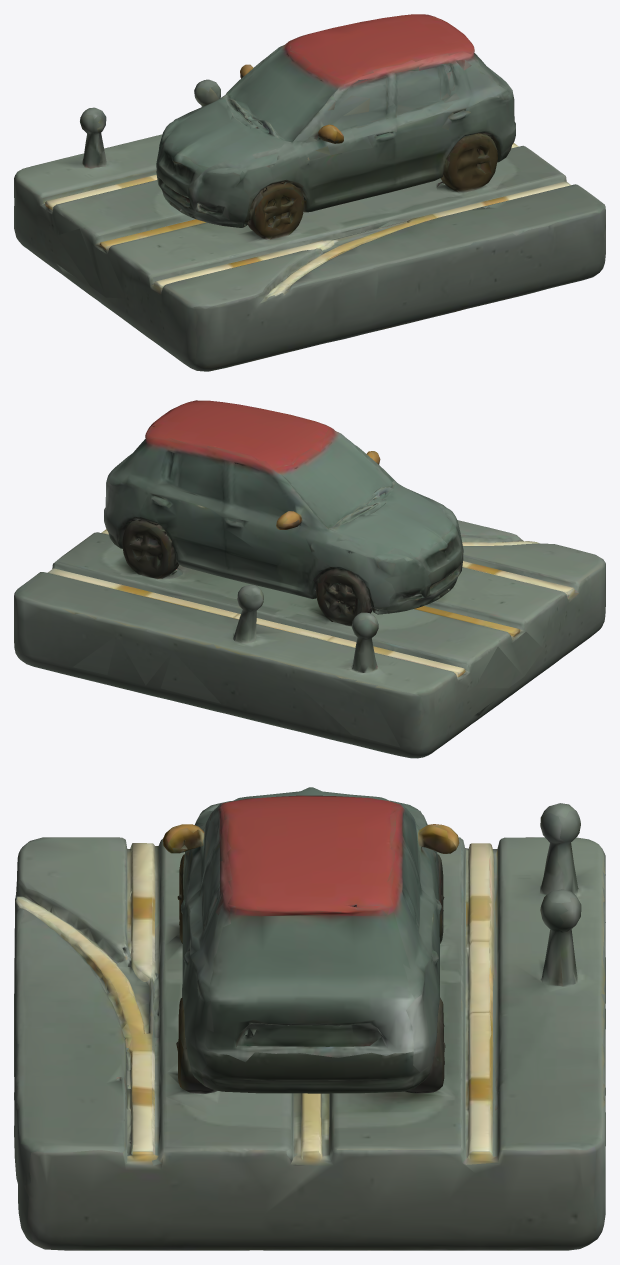
File: sc-parking-guide.glb
3 views of the same model, one above another, from view 1: azimuth 30°, elevation 25°; view 2: azimuth 150°, elevation 25°; view 3: azimuth 270°, elevation 25° (orthographic). The views are drawn at different scales.
Visible parts, largest first — view 1: geometry_0; view 2: geometry_0; view 3: geometry_0.
Part boxes in pixels (x1,y1,x2,y2): geometry_0: [14, 14, 605, 371]; geometry_0: [14, 400, 605, 758]; geometry_0: [14, 787, 605, 1250].
Bounding box in the file's own units: 1 × 0.4688 × 0.7972.
Materials: 1 (1 with a texture image).
